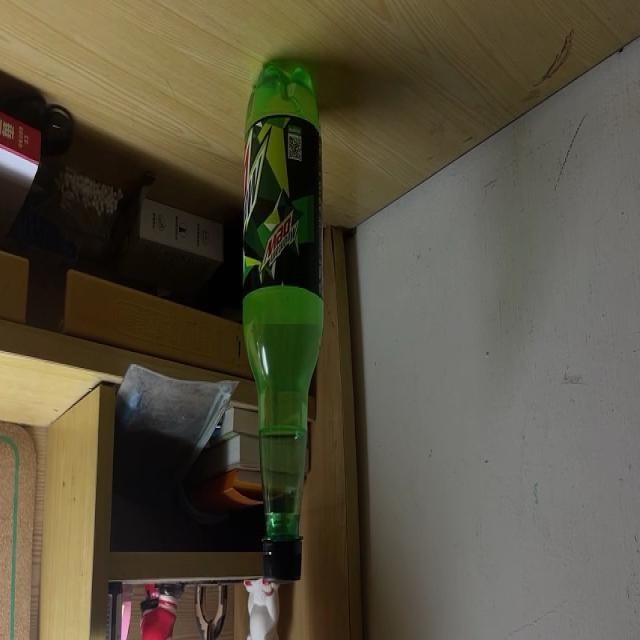Mountain-Dew: (242, 63, 322, 588)
